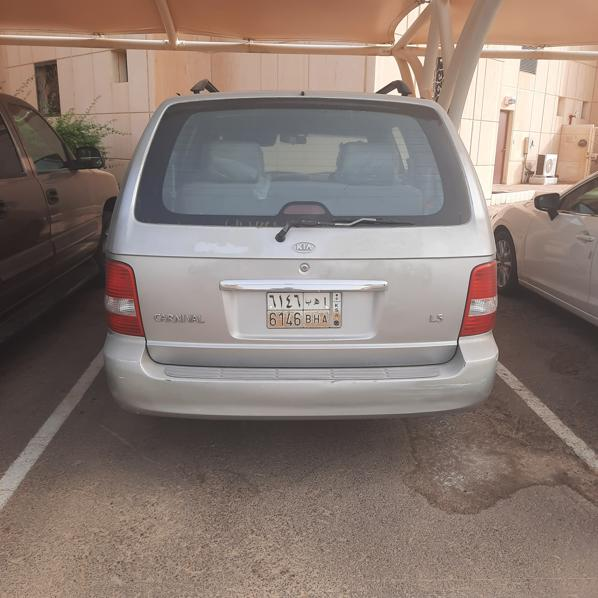numberplate: (266, 291, 341, 328)
